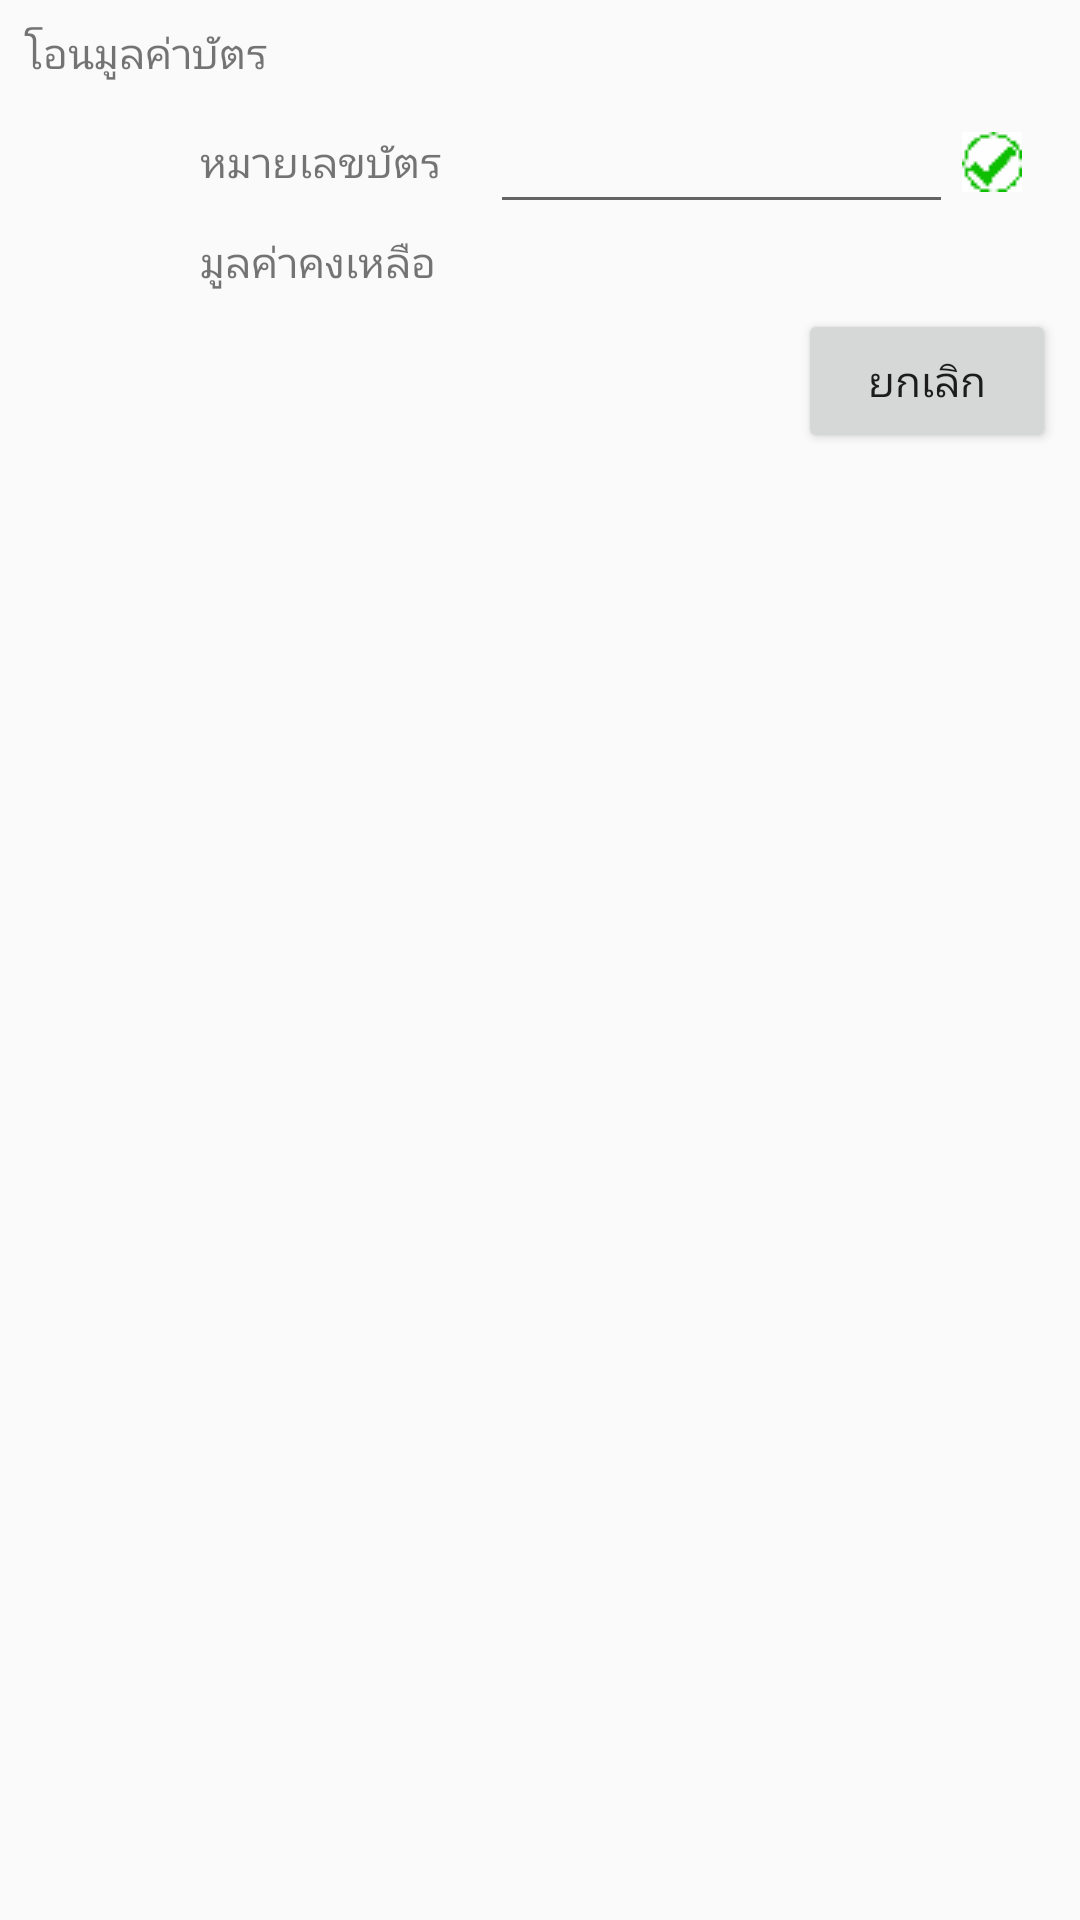

Where icons sit on this 1080×1920 app screen, as rect(x1, y1, x2, y2):
check: rect(962, 132, 1022, 192)
